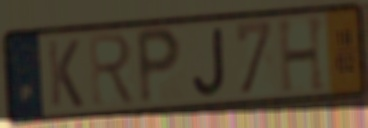7: (234, 19, 273, 100)
H: (275, 14, 328, 96)
J: (190, 25, 228, 99)
K: (45, 37, 86, 110)
P: (134, 25, 184, 109)
R: (86, 31, 139, 109)
